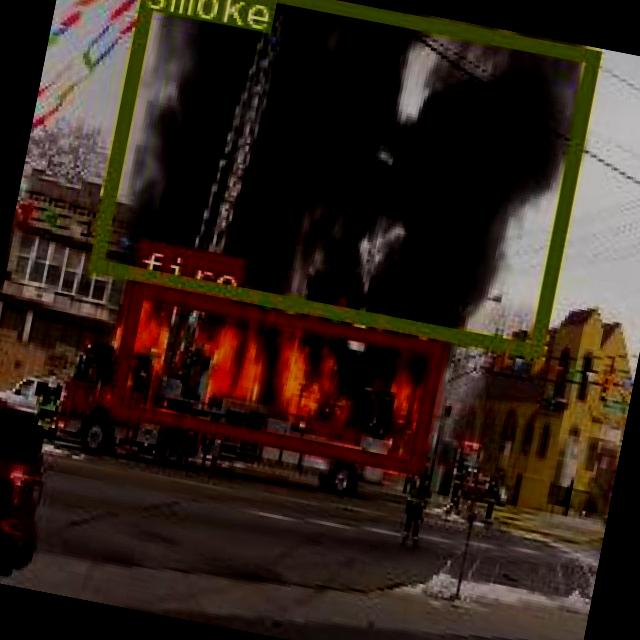fire: (107, 283, 442, 471)
smoke: (86, 0, 597, 355)
